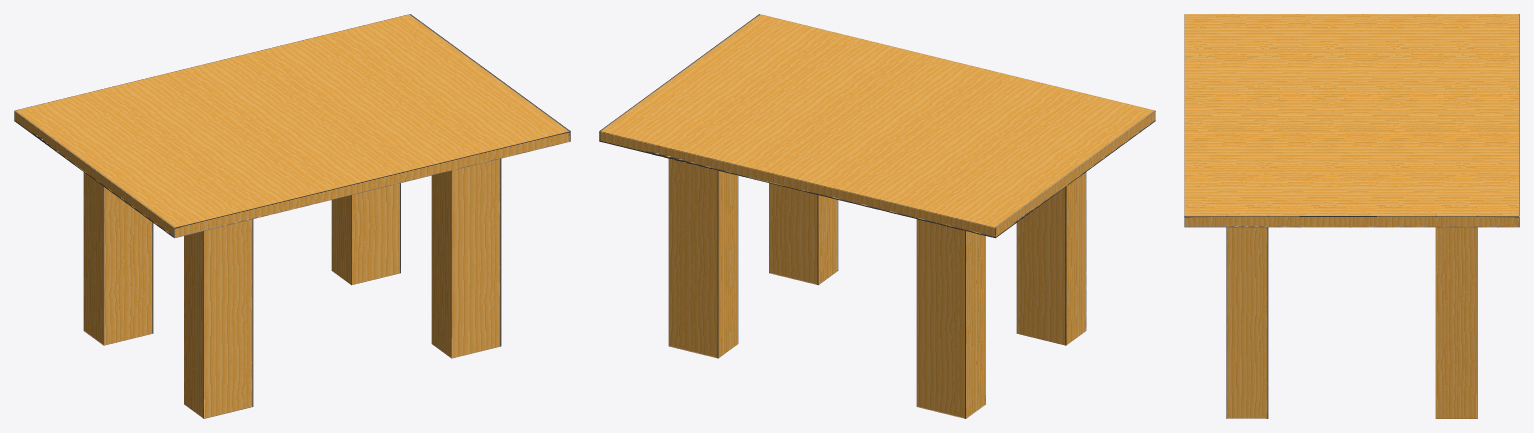
File: table.obj
3 renders of one model, left to right at view 1: azimuth 30°, elevation 25°; view 2: azimuth 150°, elevation 25°; view 3: azimuth 270°, elevation 25°, orthographic. The views are drawn at different scales.
Visible parts, largest first — view 1: Plane_Plane.001; view 2: Plane_Plane.001; view 3: Plane_Plane.001.
Part boxes in pixels (<box>): Plane_Plane.001: <box>14,14,570,418</box>; Plane_Plane.001: <box>599,14,1155,418</box>; Plane_Plane.001: <box>1184,14,1519,418</box>.
Bounding box in the file's own units: 2 × 1.05 × 1.4.
Materials: 1 (1 with a texture image).
